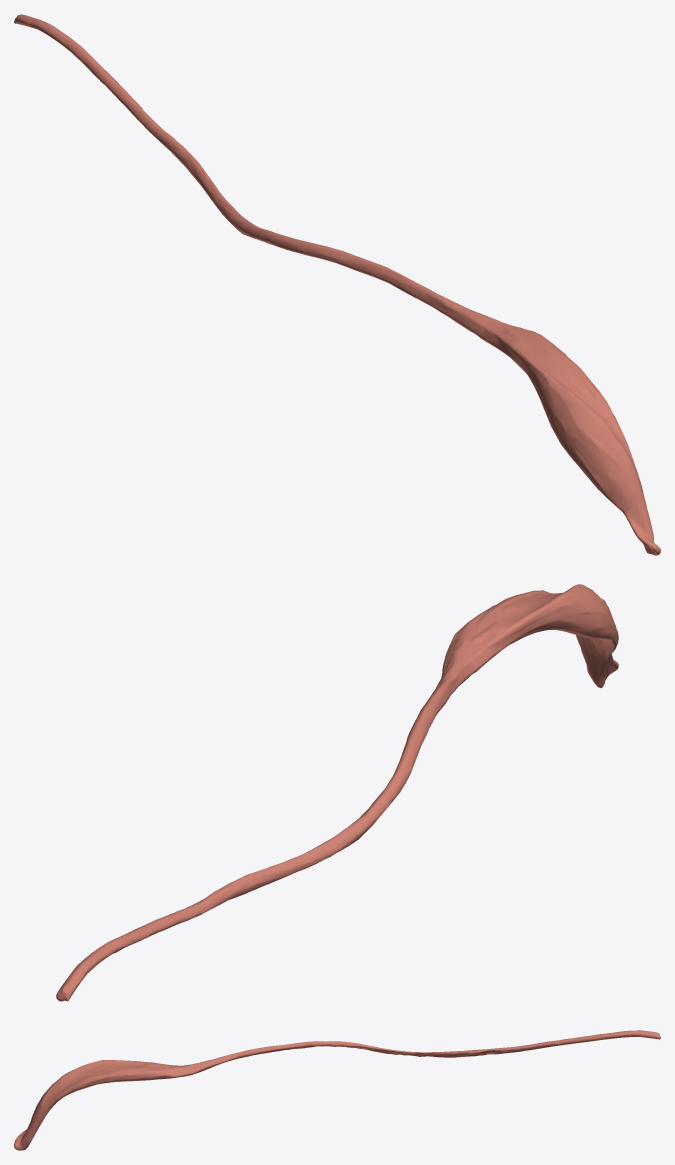
The picture shows the model from 3 angles, top to bottom: view 1: azimuth 30°, elevation 25°; view 2: azimuth 150°, elevation 25°; view 3: azimuth 270°, elevation 25°; orthographic projection. The views are drawn at different scales.
Parts seen in each view (by area): view 1: 左侧跖肌; view 2: 左侧跖肌; view 3: 左侧跖肌.
Boxes of the visible parts, bbox=[...] form: 左侧跖肌: bbox=[14, 14, 660, 555]; 左侧跖肌: bbox=[56, 584, 618, 1001]; 左侧跖肌: bbox=[14, 1030, 660, 1150].
Size of the model in its own units: 0.0809 by 0.1174 by 0.7107.
